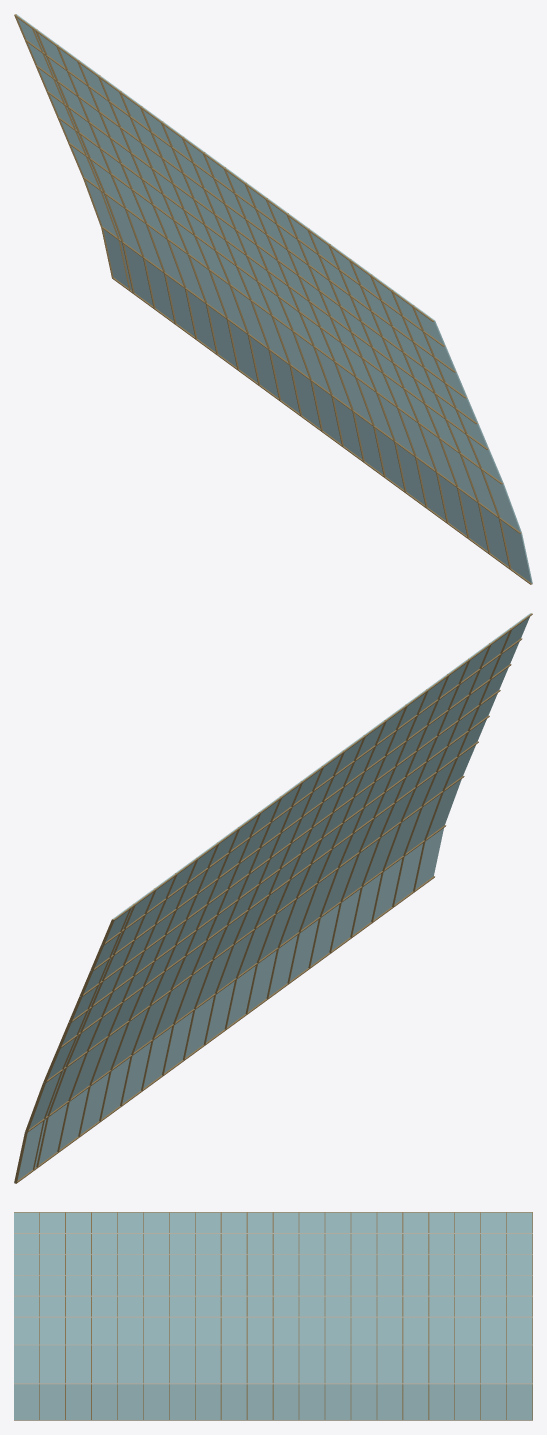
File: G7_Completion_Body_1_02.glb
3 renders of one model, top to bottom at view 1: azimuth 30°, elevation 25°; view 2: azimuth 150°, elevation 25°; view 3: azimuth 270°, elevation 25°, orthographic. The views are drawn at different scales.
Parts seen in each view (by area): view 1: Body_1_02_G7C3_glass_solid_skin, Body_1_02_G7C3_metal_solid_frame; view 2: Body_1_02_G7C3_glass_solid_skin, Body_1_02_G7C3_metal_solid_frame; view 3: Body_1_02_G7C3_glass_solid_skin, Body_1_02_G7C3_shell_solid_skin, Body_1_02_G7C3_metal_solid_skin, Body_1_02_G7C3_metal_solid_frame.
Boxes of the visible parts, x1,y1,x2,y2 form: Body_1_02_G7C3_glass_solid_skin: (16,14,532,583); Body_1_02_G7C3_metal_solid_frame: (14,14,531,584); Body_1_02_G7C3_glass_solid_skin: (17,613,530,1180); Body_1_02_G7C3_metal_solid_frame: (15,613,532,1183); Body_1_02_G7C3_glass_solid_skin: (14,1212,532,1419); Body_1_02_G7C3_shell_solid_skin: (14,1233,532,1420); Body_1_02_G7C3_metal_solid_skin: (39,1212,532,1419); Body_1_02_G7C3_metal_solid_frame: (14,1212,532,1212).
Bounding box in the file's own units: 16.63 × 45.5 × 120.
Materials: 3 (2 with a texture image).
